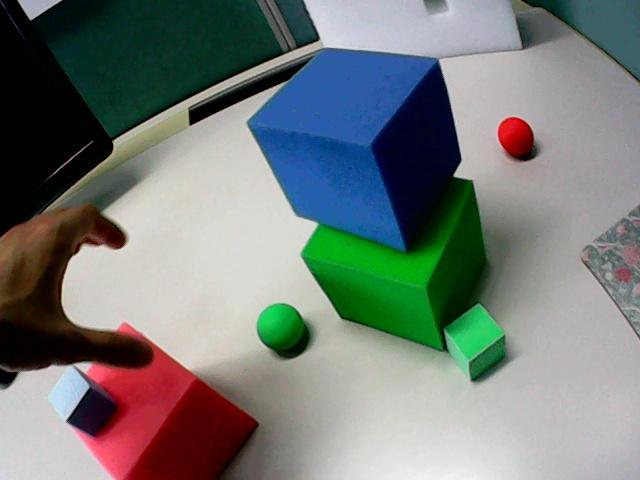blue_block: (248, 50, 460, 251), (48, 367, 116, 435), (48, 367, 89, 420)
red_block: (78, 342, 257, 479)
